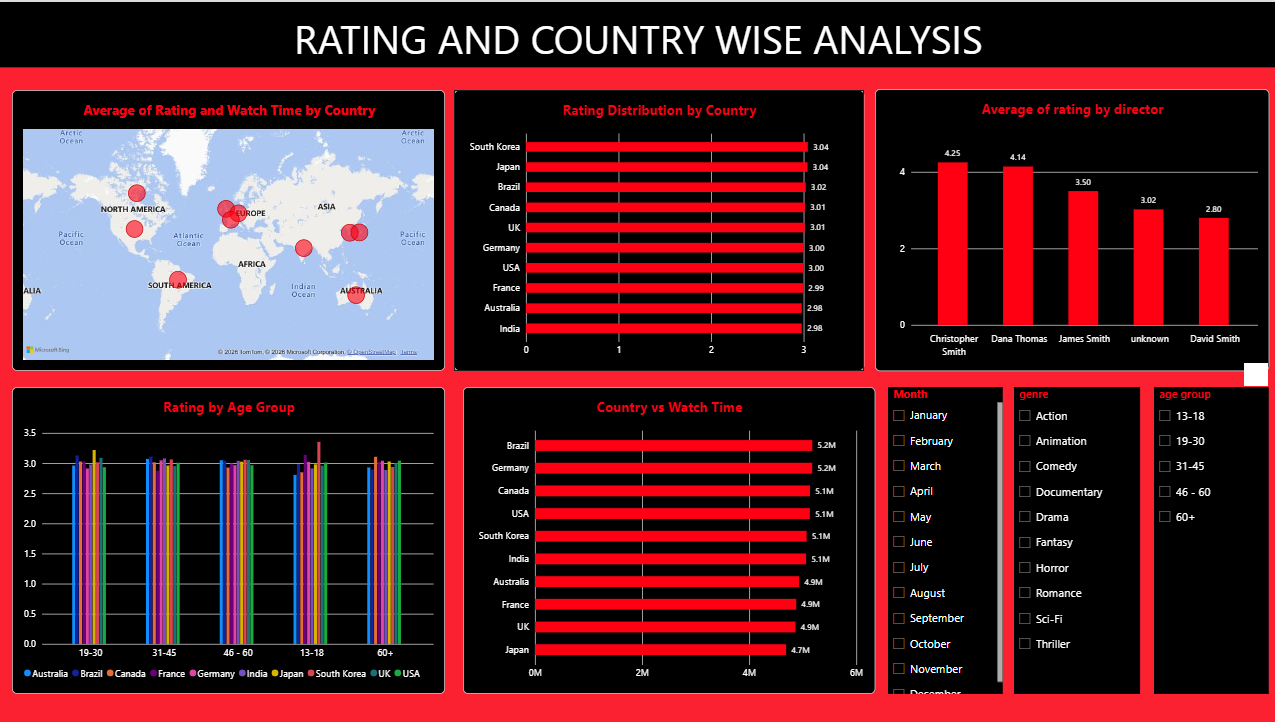

What the dashboard file says about the page in this screenshot:
{"tool":"powerbi","page":{"name":"Page 6","canvas":[1920,1080],"ordinal":6},"visuals":[{"type":"textbox","box":[0,14.8,1920.3,83.5],"z":0},{"type":"textbox","box":[0,0,1920.3,24.2],"z":1000},{"type":"map","title":"Average of Rating and  Watch Time by Country","fields":{"Category":["netflix_dataset_20000 csv.country"],"Size":["Avg(netflix_customer_ratings_20000.rating)"]},"box":[21,131.9,649,421.2],"z":2000},{"type":"barChart","title":"Rating Distribution by Country","fields":{"Category":["netflix_dataset_20000 csv.country"],"Y":["Avg(netflix_customer_ratings_20000.rating)"]},"box":[683.5,131.9,614.5,421.2],"z":3000},{"type":"slicer","fields":{"Values":["netflix_dataset_20000 csv.date_added.Variation.Date Hierarchy.Month"]},"box":[1334,577,172.4,460.1],"z":4000},{"type":"clusteredColumnChart","title":"Rating by Age Group","fields":{"Category":["netflix_customer_ratings_20000.age group"],"Y":["Avg(netflix_customer_ratings_20000.rating)"],"Series":["netflix_dataset_20000 csv.country"]},"box":[21,577,649,460.1],"z":5000},{"type":"clusteredBarChart","title":"Country vs Watch Time","fields":{"Category":["netflix_dataset_20000 csv.country"],"Y":["Sum(netflix_customer_ratings_20000.watch_time_minutes)"]},"box":[697,577,617.5,460.1],"z":6000},{"type":"slicer","fields":{"Values":["netflix_dataset_20000 csv.genre"]},"box":[1522.8,577,188.9,460.1],"z":7000},{"type":"columnChart","fields":{"Category":["netflix_dataset_20000 csv.director"],"Y":["Avg(netflix_customer_ratings_20000.rating)"]},"box":[1314.5,130.4,590.5,422.7],"z":8000},{"type":"slicer","fields":{"Values":["netflix_customer_ratings_20000.age group"]},"box":[1732.6,577,172.4,460.1],"z":9000}]}

Visuals, with their boxes in screenshot pixels (x1, y1, x2, y2), scaled from the page's 1920x1080 canvas onto the 1275x722 screenshot:
textbox: rect(0, 10, 1274, 66)
textbox: rect(0, 0, 1274, 16)
"Average of Rating and  Watch Time by Country" map: rect(14, 88, 445, 370)
"Rating Distribution by Country" barChart: rect(454, 88, 862, 370)
slicer - netflix_dataset_20000 csv.date_added.Variation.Date Hierarchy.Month: rect(886, 386, 1000, 693)
"Rating by Age Group" clusteredColumnChart: rect(14, 386, 445, 693)
"Country vs Watch Time" clusteredBarChart: rect(463, 386, 873, 693)
slicer - netflix_dataset_20000 csv.genre: rect(1011, 386, 1137, 693)
columnChart - netflix_dataset_20000 csv.director x Avg(netflix_customer_ratings_20000.rating): rect(873, 87, 1265, 370)
slicer - netflix_customer_ratings_20000.age group: rect(1151, 386, 1265, 693)
